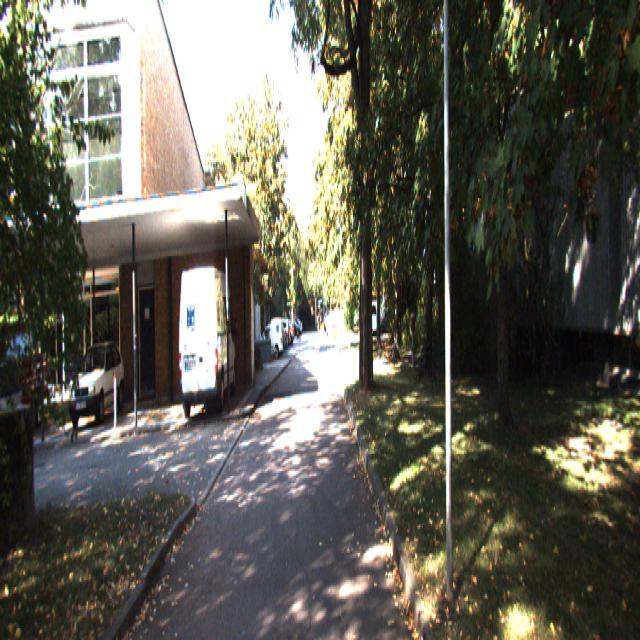Car: (180, 263, 236, 420), (66, 340, 126, 431)
